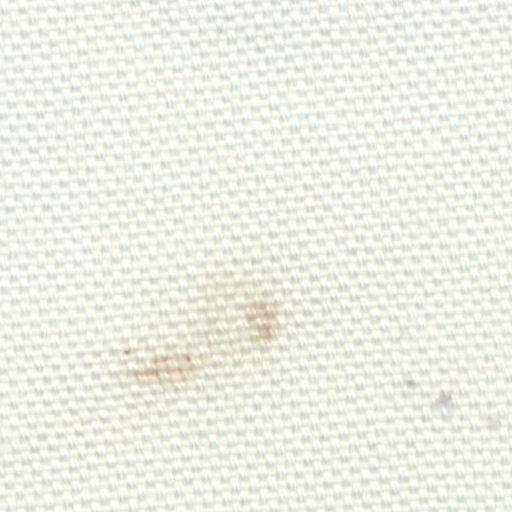WuZi: (100, 270, 302, 395), (424, 362, 501, 440)
